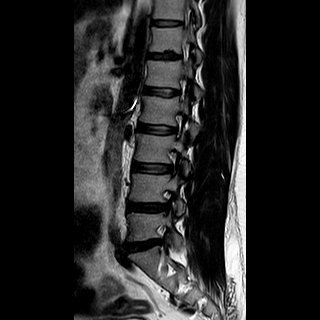LFS0: (166, 107, 188, 143), (170, 71, 192, 106)
LFS1: (161, 144, 184, 180)
